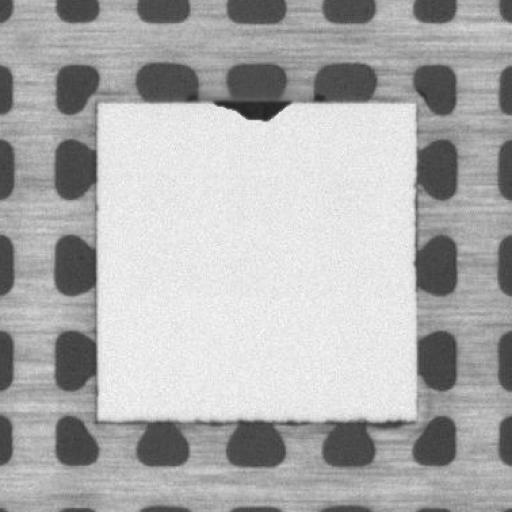DIE_BROKEN: (204, 97, 296, 120)
